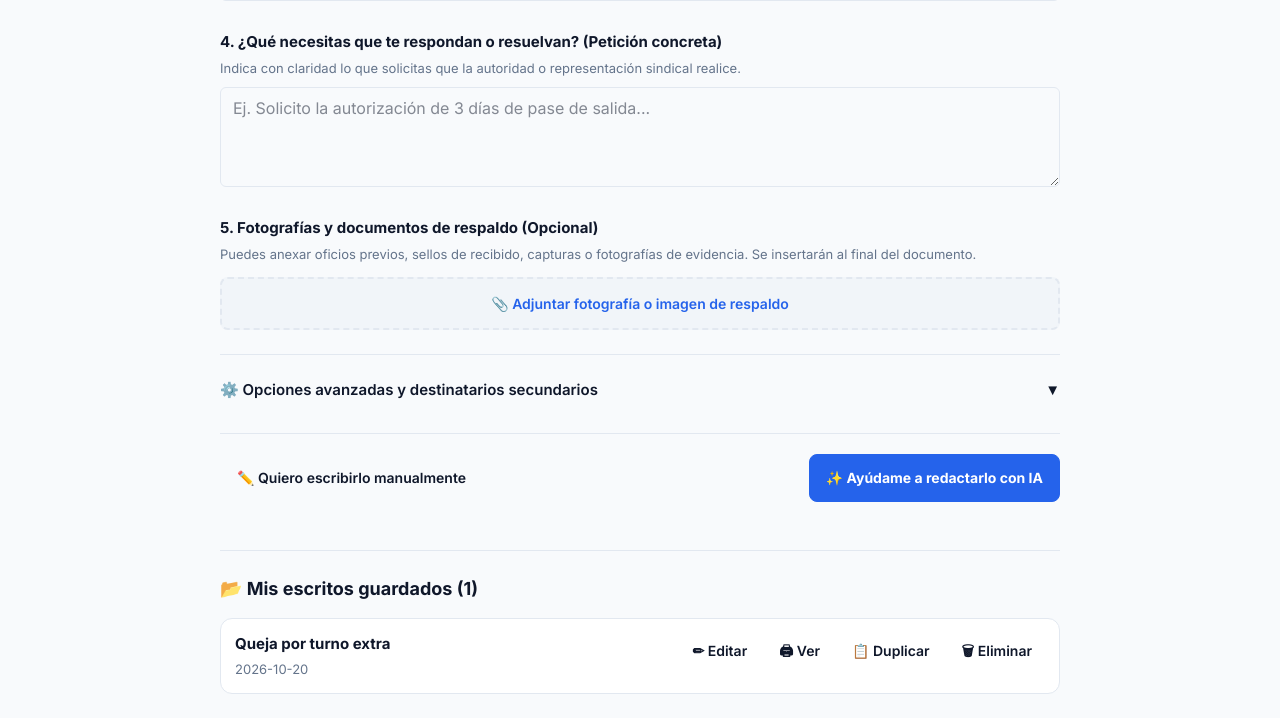
Test: EscritosGenerator (Componente Principal con Auth y Protección de Cambios) › permite duplicar un escrito existente creando copia física independiente
This screenshot has width=1280, height=718.
(page scrolled)
Check: the text "Queja por turno extra" is shown, box [235,634,390,653]
Click the button "📋 Duplicar".
click(891, 651)  # box [839,633,943,669]
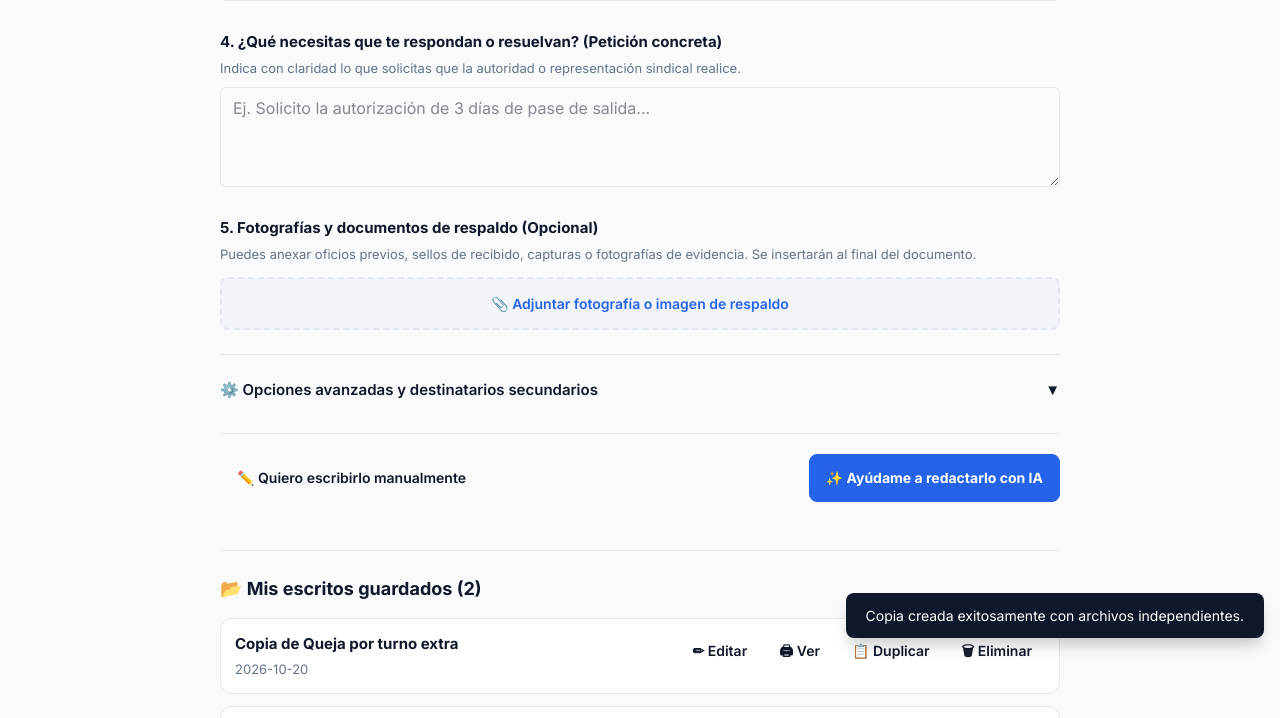
Check: the text "Copia de Queja por turno extra" is shown, box [235,634,458,653]
